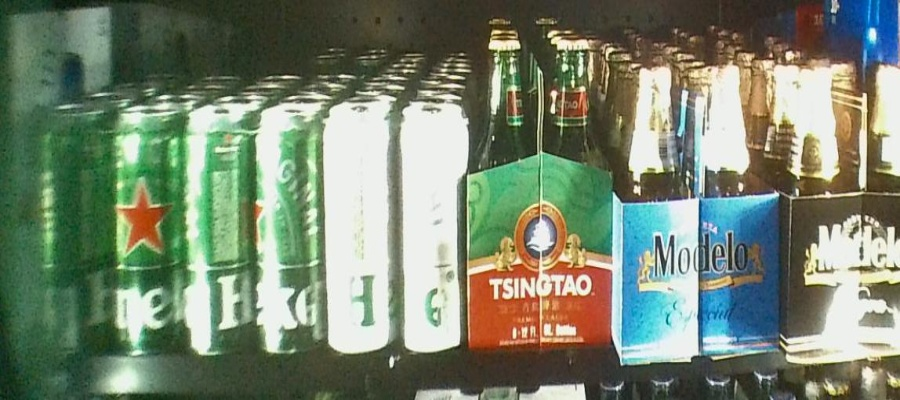bottle: (616, 54, 782, 366), (473, 35, 616, 350), (13, 113, 183, 347), (780, 56, 900, 342), (323, 117, 466, 351), (183, 115, 319, 354)
